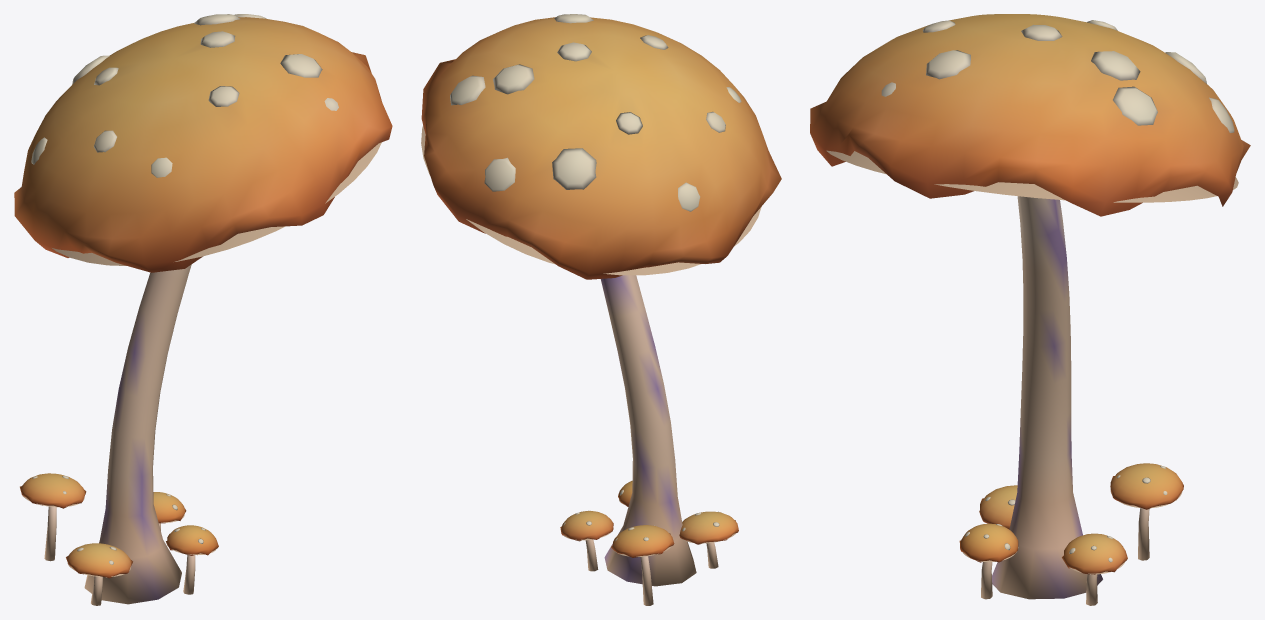
The model's file is verdant_tree_umbrellashroom_c.glb.
The picture shows the model from 3 angles, left to right: view 1: azimuth 30°, elevation 25°; view 2: azimuth 150°, elevation 25°; view 3: azimuth 270°, elevation 25°; orthographic projection. The views are drawn at different scales.
Parts seen in each view (by area): view 1: verdant_tree_umbrellashroom_c; view 2: verdant_tree_umbrellashroom_c; view 3: verdant_tree_umbrellashroom_c.
Boxes of the visible parts, x1,y1,x2,y2 form: verdant_tree_umbrellashroom_c: (14,14,392,605); verdant_tree_umbrellashroom_c: (421,14,781,605); verdant_tree_umbrellashroom_c: (810,14,1250,605).
Size of the model in its own units: 6.85 by 10.76 by 7.14.
